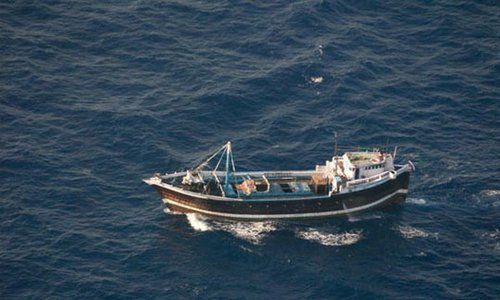otherboat: (140, 133, 417, 228)
